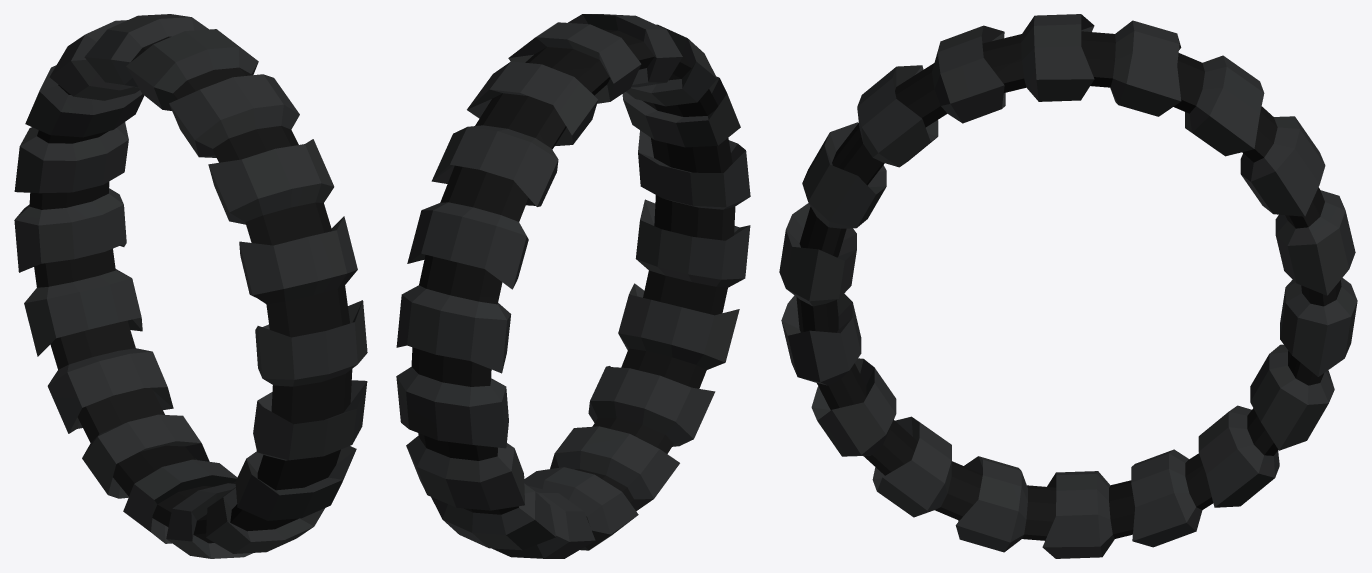
The model's file is StandardTire.fbx.
3 views of the same model, side by side, from view 1: azimuth 30°, elevation 25°; view 2: azimuth 150°, elevation 25°; view 3: azimuth 270°, elevation 25° (orthographic). The views are drawn at different scales.
Parts seen in each view (by area): view 1: Tire; view 2: Tire; view 3: Tire.
Boxes of the visible parts, bbox=[...] form: Tire: bbox=[14, 14, 367, 558]; Tire: bbox=[396, 14, 750, 558]; Tire: bbox=[779, 14, 1357, 558].
Bounding box in the file's own units: 0.7586 × 3.46 × 3.46.
